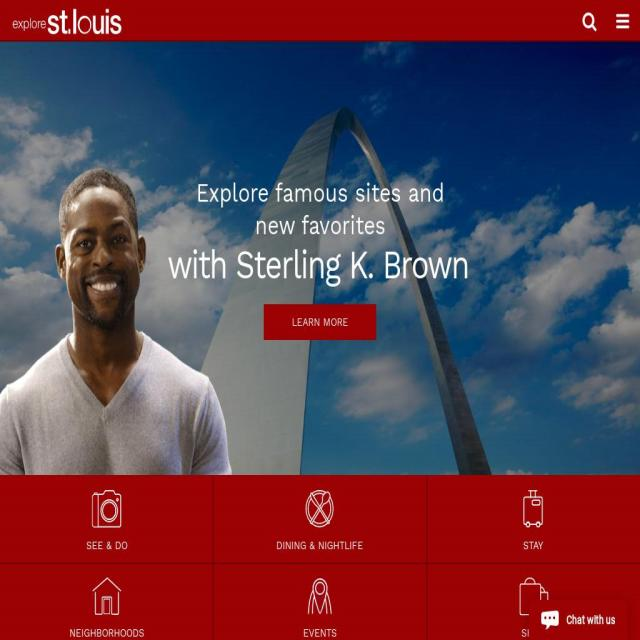chat-option: (528, 595, 634, 640)
navigation-blocks: (42, 476, 622, 640)
search: (566, 2, 605, 40), (610, 0, 640, 37)
